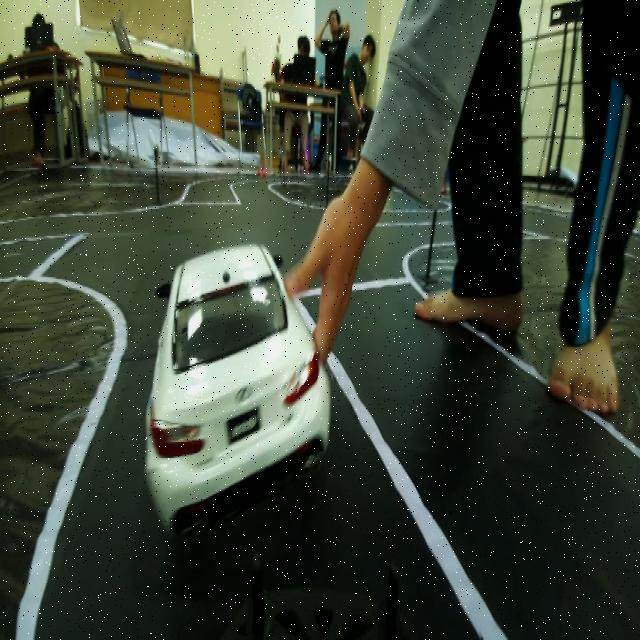car: (128, 238, 330, 533)
